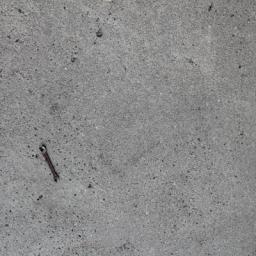FOD: (38, 140, 62, 187)
